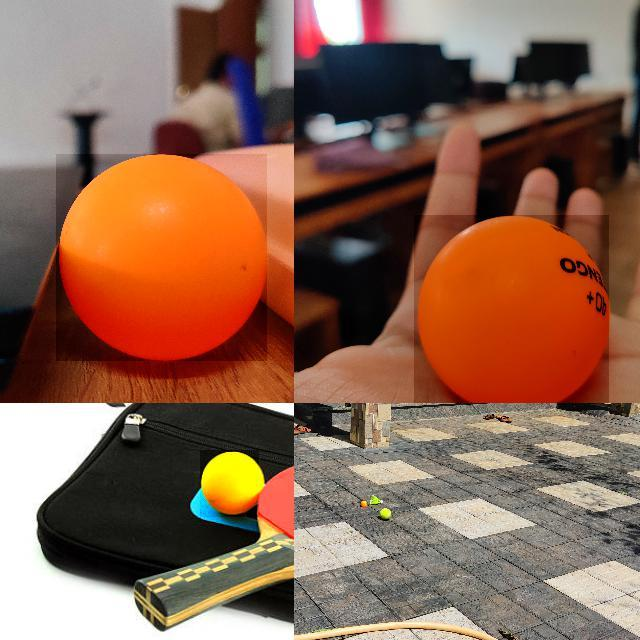ping-pong-ball: (56, 154, 268, 362), (413, 215, 611, 402), (200, 450, 260, 518), (360, 500, 366, 506)
